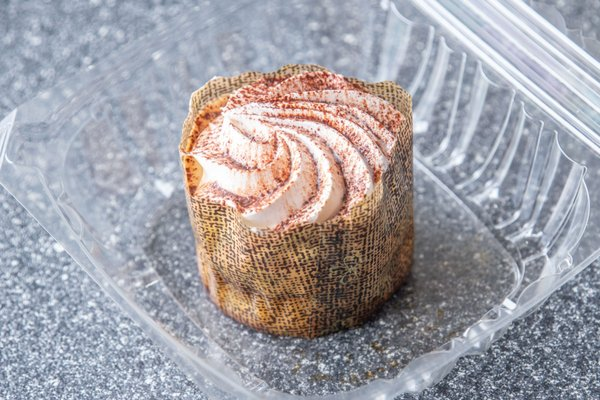sushi: (178, 61, 416, 341)
